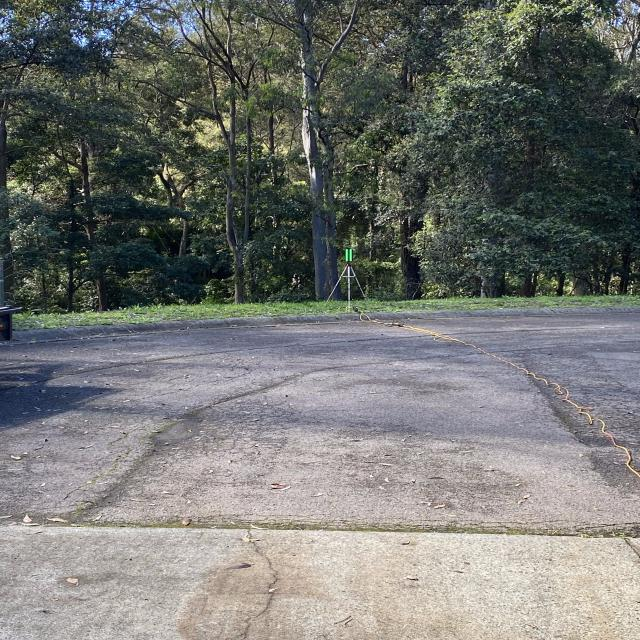matrix: (343, 248, 354, 262)
